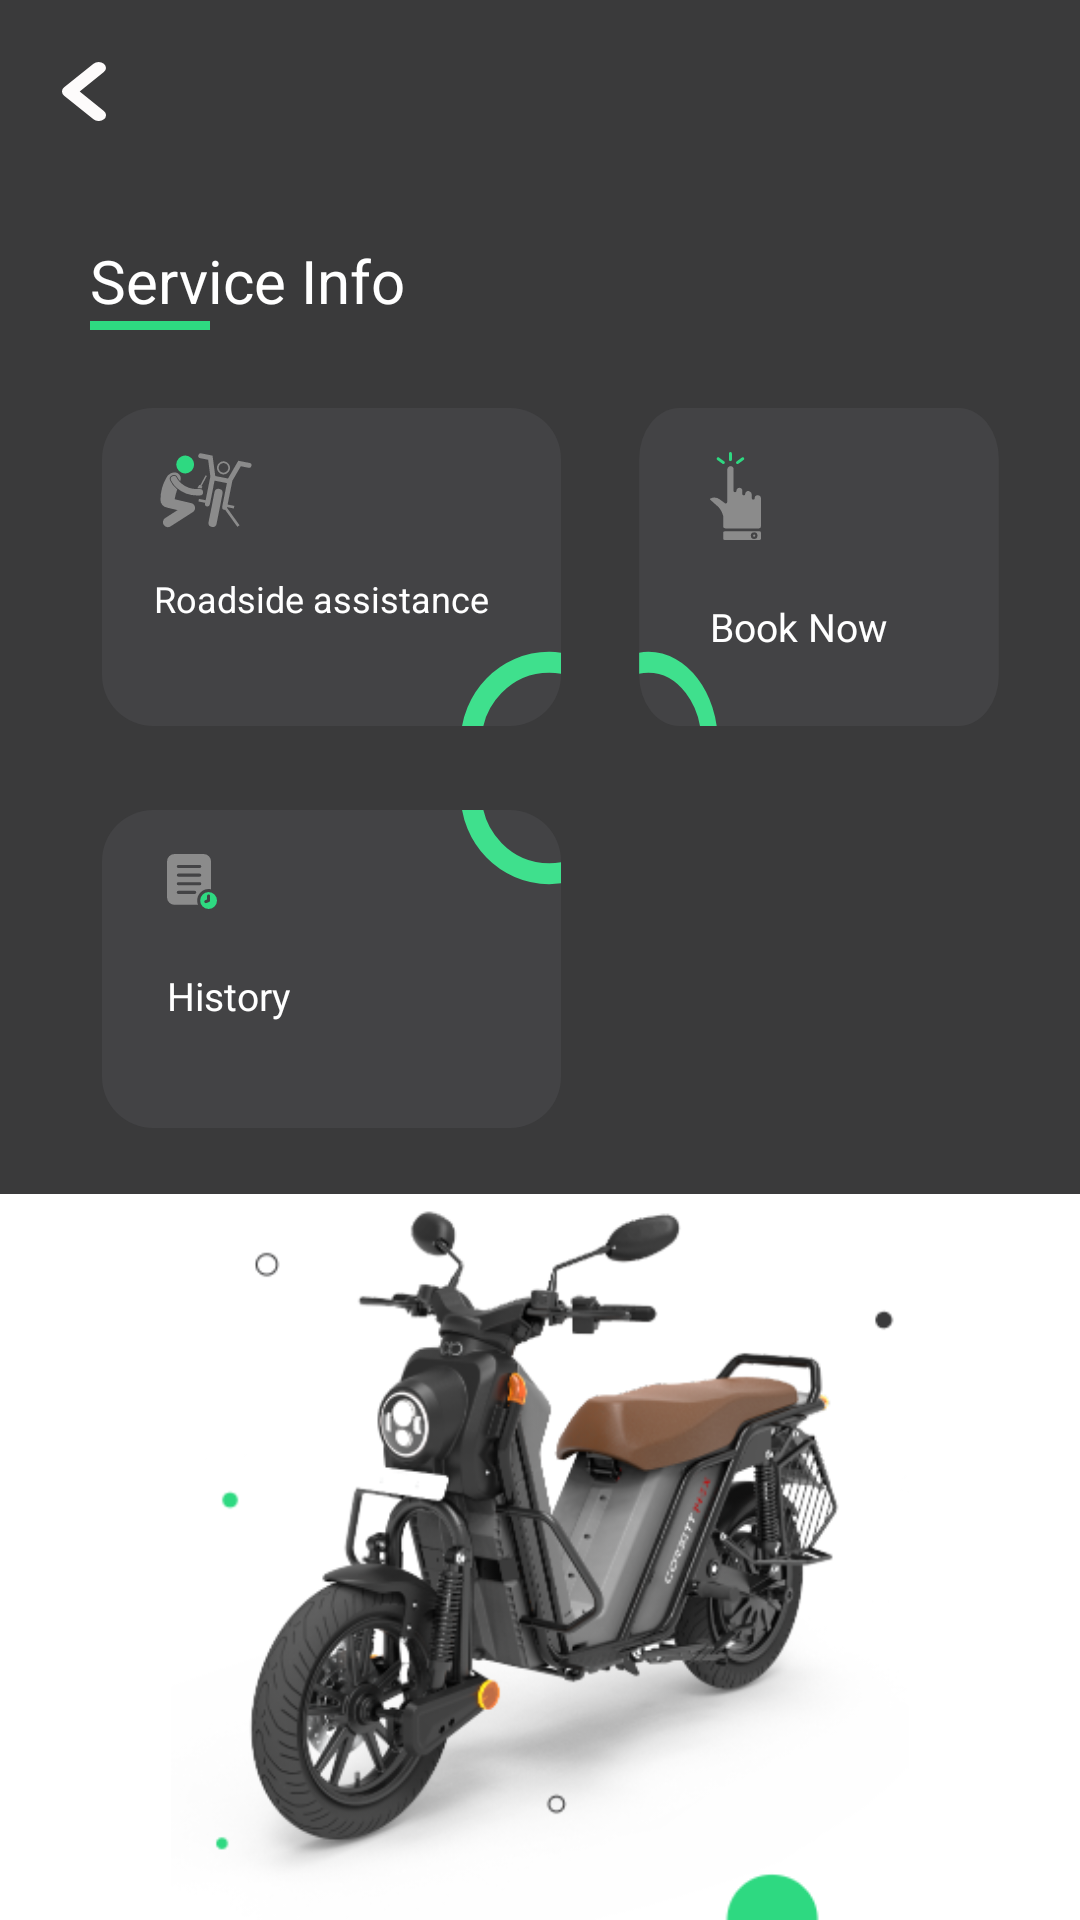

Point at icon controls on the screen. Image size 1080 x 1920, points as (x=x, y=y).
back: (x=84, y=91)
hand: (x=735, y=496)
